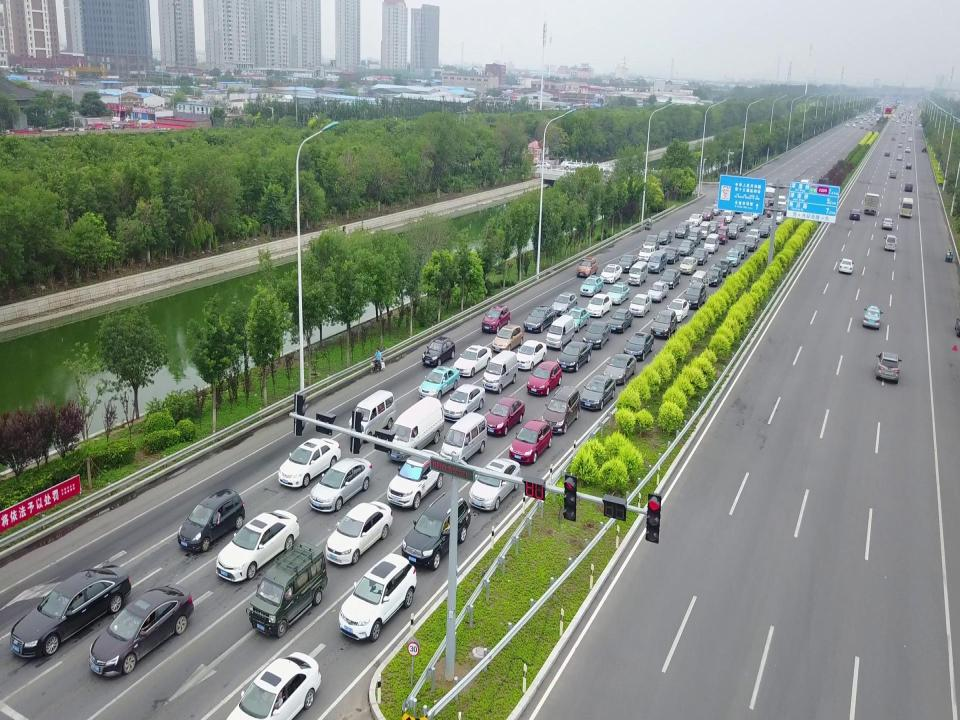bus: (900, 197, 914, 218)
car: (9, 564, 131, 660), (89, 583, 195, 679), (337, 550, 417, 642), (220, 650, 321, 720), (215, 509, 301, 582), (400, 492, 472, 572), (325, 499, 393, 567), (176, 487, 246, 553), (308, 455, 372, 513), (387, 449, 446, 510), (278, 436, 342, 489), (468, 457, 522, 511), (509, 419, 553, 464), (483, 395, 526, 436), (442, 383, 486, 422), (418, 365, 460, 400), (452, 343, 493, 378), (579, 374, 616, 411), (526, 360, 562, 396), (556, 341, 592, 372), (422, 335, 456, 367), (603, 354, 637, 386), (514, 339, 546, 370), (491, 323, 524, 353), (623, 331, 655, 361), (481, 304, 511, 334), (524, 305, 556, 333), (875, 351, 902, 384), (650, 309, 678, 339), (583, 321, 611, 349), (606, 307, 634, 333), (550, 292, 578, 316), (566, 305, 590, 332), (586, 293, 612, 317), (684, 282, 706, 310), (666, 298, 690, 323), (628, 293, 652, 317), (579, 274, 604, 297), (606, 282, 630, 305), (862, 305, 884, 329), (576, 256, 598, 278), (647, 280, 669, 302), (600, 263, 622, 284), (616, 254, 640, 273), (659, 269, 681, 289), (678, 256, 698, 275), (705, 266, 723, 287), (714, 258, 732, 277), (642, 234, 660, 252), (663, 246, 680, 264), (691, 248, 708, 265), (638, 246, 656, 262), (674, 221, 690, 239), (725, 249, 741, 267), (838, 258, 854, 275), (678, 240, 695, 256), (732, 242, 748, 259), (743, 235, 758, 252), (657, 231, 673, 246), (757, 223, 771, 239), (726, 222, 740, 238), (700, 205, 714, 221), (689, 212, 703, 227), (746, 228, 760, 243), (770, 210, 784, 225), (740, 210, 754, 225), (773, 195, 787, 209), (762, 218, 774, 232), (715, 215, 727, 229), (881, 217, 893, 230), (848, 208, 860, 221), (735, 218, 747, 231), (706, 221, 719, 233), (721, 210, 733, 223), (711, 204, 721, 216), (904, 182, 914, 192), (889, 169, 897, 178), (905, 162, 912, 169), (896, 154, 903, 160), (884, 150, 890, 157), (921, 146, 927, 153), (904, 147, 910, 152), (890, 136, 895, 141), (907, 137, 913, 141)
truck: (864, 192, 880, 216), (762, 183, 776, 205)
van: (245, 542, 329, 640), (385, 395, 445, 462), (440, 412, 488, 468), (348, 389, 396, 442), (540, 384, 581, 435), (482, 349, 518, 395), (545, 314, 575, 351), (628, 260, 648, 286), (648, 249, 668, 274), (688, 270, 709, 293), (703, 233, 719, 254), (687, 227, 701, 247), (717, 225, 729, 245), (883, 234, 897, 251), (698, 221, 710, 239), (898, 141, 902, 148)
